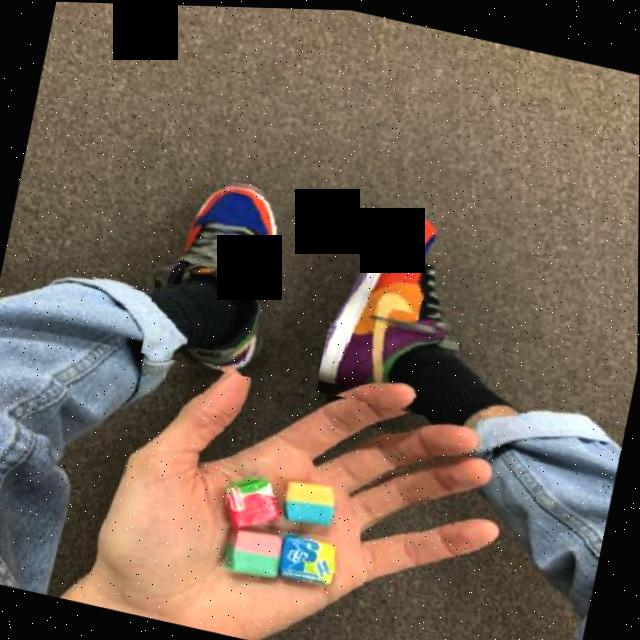shoe: (316, 193, 484, 418), (141, 166, 300, 379)
